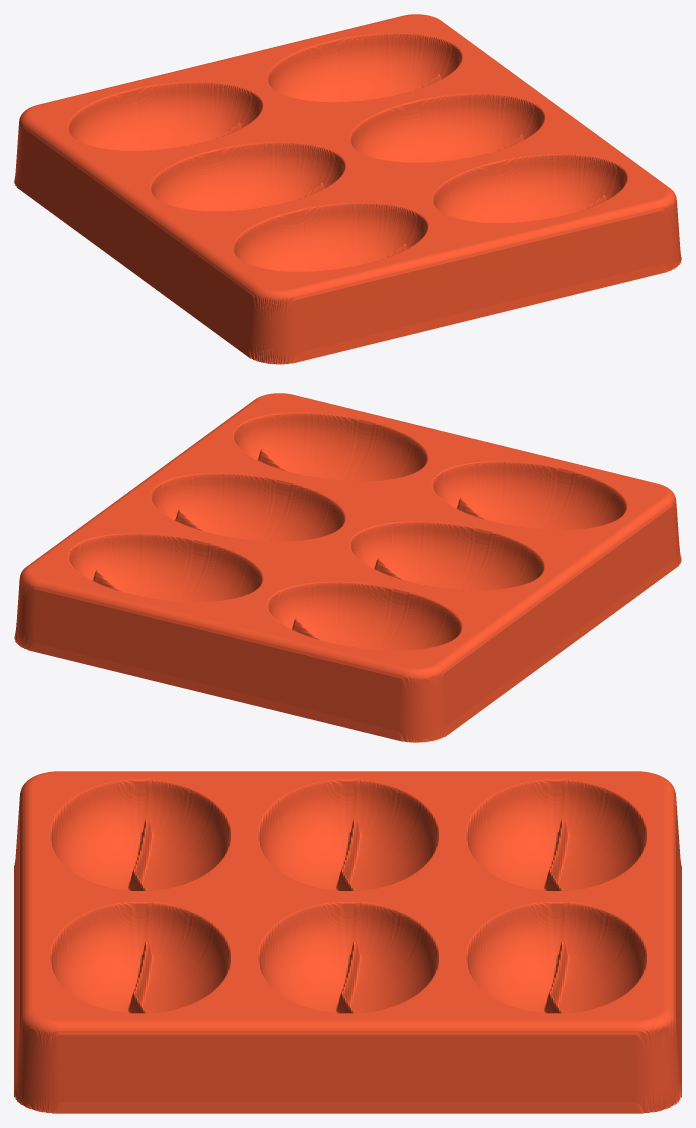
The model's file is mold.glb.
3 views of the same model, one above another, from view 1: azimuth 30°, elevation 25°; view 2: azimuth 150°, elevation 25°; view 3: azimuth 270°, elevation 25° (orthographic). The views are drawn at different scales.
Parts seen in each view (by area): view 1: geometry_0; view 2: geometry_0; view 3: geometry_0.
Boxes of the visible parts, left/top/right/bottom form: geometry_0: left=14, top=14, right=681, bottom=364; geometry_0: left=14, top=393, right=681, bottom=742; geometry_0: left=14, top=771, right=681, bottom=1113.
Bounding box in the file's own units: 0.1222 × 0.0185 × 0.1309.
